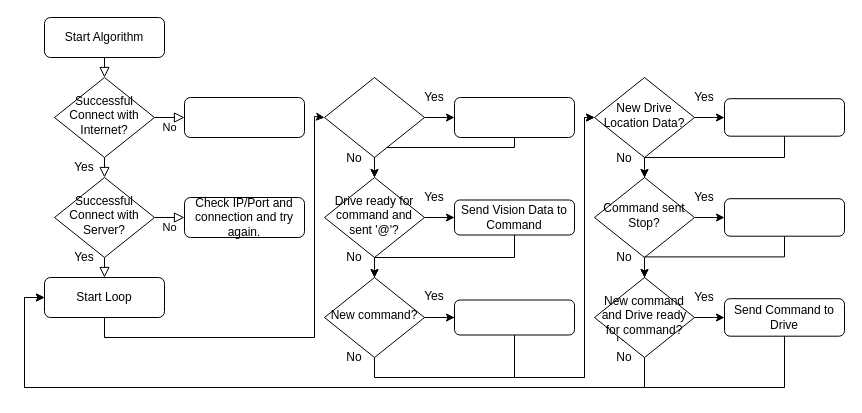
Image size: 862x413. Some labels were removed from this diagram. The centre of each missing label's shape, as x and y in pixels:
"Check Username/Password and try again." belongs at point 244,117.
"New Vision Data?" belongs at point 374,117.
"Read and Store Command in Buffer" belongs at point 514,317.
"Read and Store Data in Buffer and send to Command" belongs at point 784,117.
"Read and Store Vision Data in Buffer" belongs at point 514,117.
"Send Stop to Drive" belongs at point 784,217.
